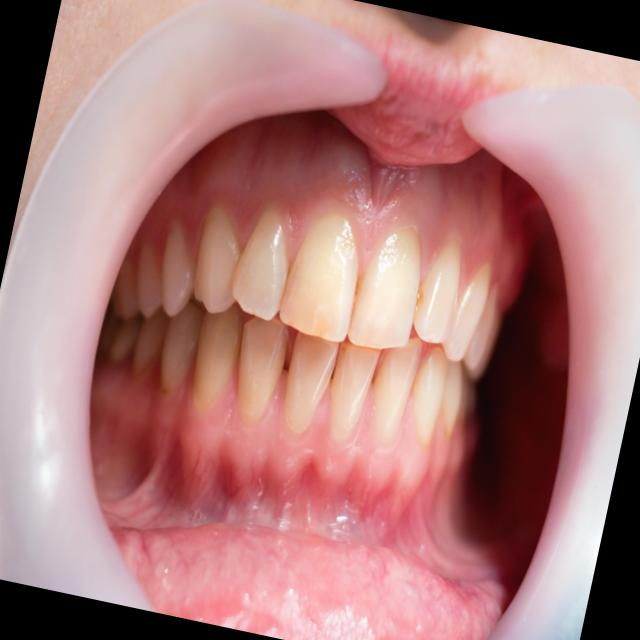Tooth: (279, 215, 358, 342), (348, 229, 420, 348), (232, 212, 289, 320), (285, 331, 339, 433), (192, 305, 241, 410), (238, 316, 288, 418), (413, 239, 460, 343), (373, 338, 420, 442), (194, 210, 240, 313), (442, 263, 489, 360), (332, 342, 380, 436), (161, 300, 204, 392), (412, 347, 448, 448), (161, 231, 195, 316), (462, 287, 496, 367), (134, 307, 168, 374), (137, 246, 162, 318), (443, 361, 461, 438)
